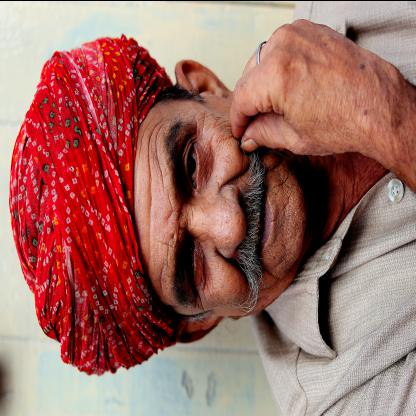Eye: (180, 135, 205, 195), (182, 241, 203, 295)
Mouth: (254, 184, 276, 263)
Nose: (186, 183, 247, 259)
